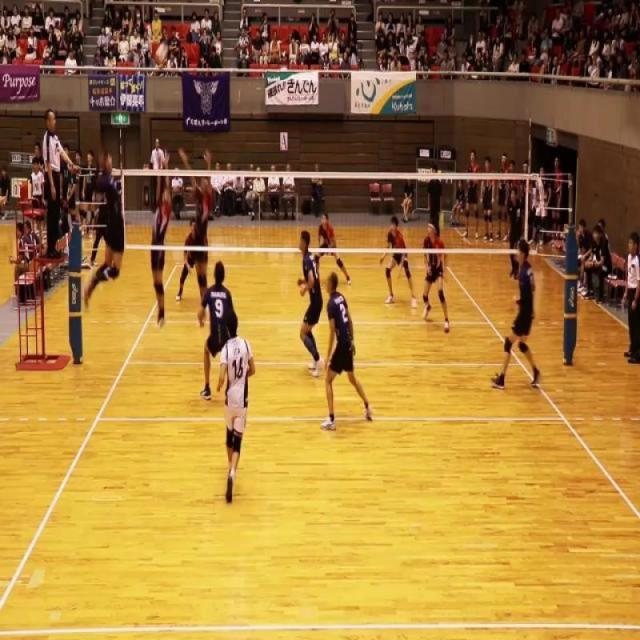volleyball: (154, 42, 169, 64)
